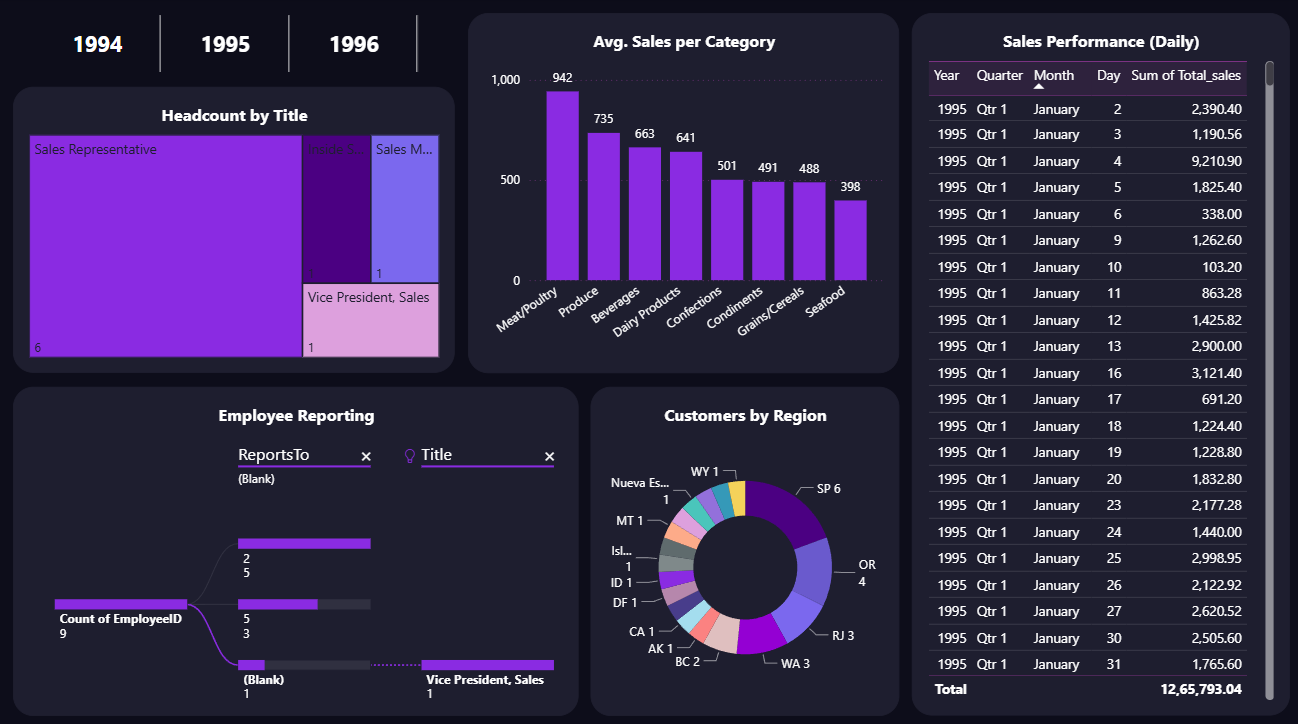

This screenshot's page, from the dashboard's own definition file:
{"tool":"powerbi","page":{"name":"Sales performance","canvas":[1280,720],"ordinal":1},"visuals":[{"type":"tableEx","title":"Sales Performance (Daily)","fields":{"Values":["Custom_calender.Date.Variation.Date Hierarchy.Year","Custom_calender.Date.Variation.Date Hierarchy.Quarter","Custom_calender.Date.Variation.Date Hierarchy.Month","Custom_calender.Date.Variation.Date Hierarchy.Day","Sum(order details.Total_sales)"]},"box":[897.1,14.5,371,689.9],"z":0},{"type":"decompositionTreeVisual","title":"Employee Reporting","fields":{"Analyze":["CountNonNull(employees_ready_for_sql.EmployeeID)"],"ExplainBy":["employees_ready_for_sql.ReportsTo","employees_ready_for_sql.Title"]},"box":[14.5,381.2,555.1,323.2],"z":1000},{"type":"columnChart","title":"Avg. Sales per Category","fields":{"Category":["categories.CategoryName"],"Y":["order details.Avg_sales"]},"box":[460.9,14.5,423.2,353.6],"z":2000},{"type":"treemap","title":"Headcount by Title","fields":{"Group":["employees_ready_for_sql.Title"],"Values":["CountNonNull(employees_ready_for_sql.EmployeeID)"]},"box":[14.5,87,433.3,281.2],"z":3000},{"type":"donutChart","title":"Customers by Region","fields":{"Category":["customers.Region"],"Y":["CountNonNull(customers.CustomerID)"]},"box":[581.2,381.2,302.9,323.2],"z":4000},{"type":"slicer","fields":{"Values":["orders.Year"]},"box":[14.5,14.5,415.9,59.4],"z":5000}]}

Visuals, with their boxes in screenshot pixels (x1, y1, x2, y2), scaled from the page's 1280x720 canvas onto the 1298x724 screenshot:
"Sales Performance (Daily)" tableEx: [910, 15, 1286, 708]
"Employee Reporting" decompositionTreeVisual: [15, 383, 578, 708]
"Avg. Sales per Category" columnChart: [467, 15, 897, 370]
"Headcount by Title" treemap: [15, 87, 454, 370]
"Customers by Region" donutChart: [589, 383, 897, 708]
slicer - orders.Year: [15, 15, 436, 74]
